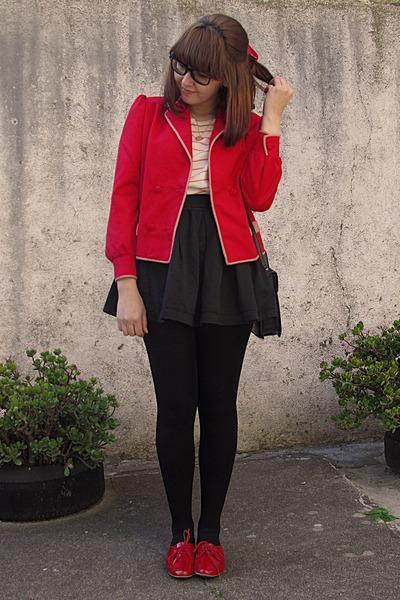jacket: (105, 95, 281, 275)
shirt: (180, 117, 214, 203)
shoe: (166, 540, 223, 575)
skirt: (103, 190, 281, 347)
